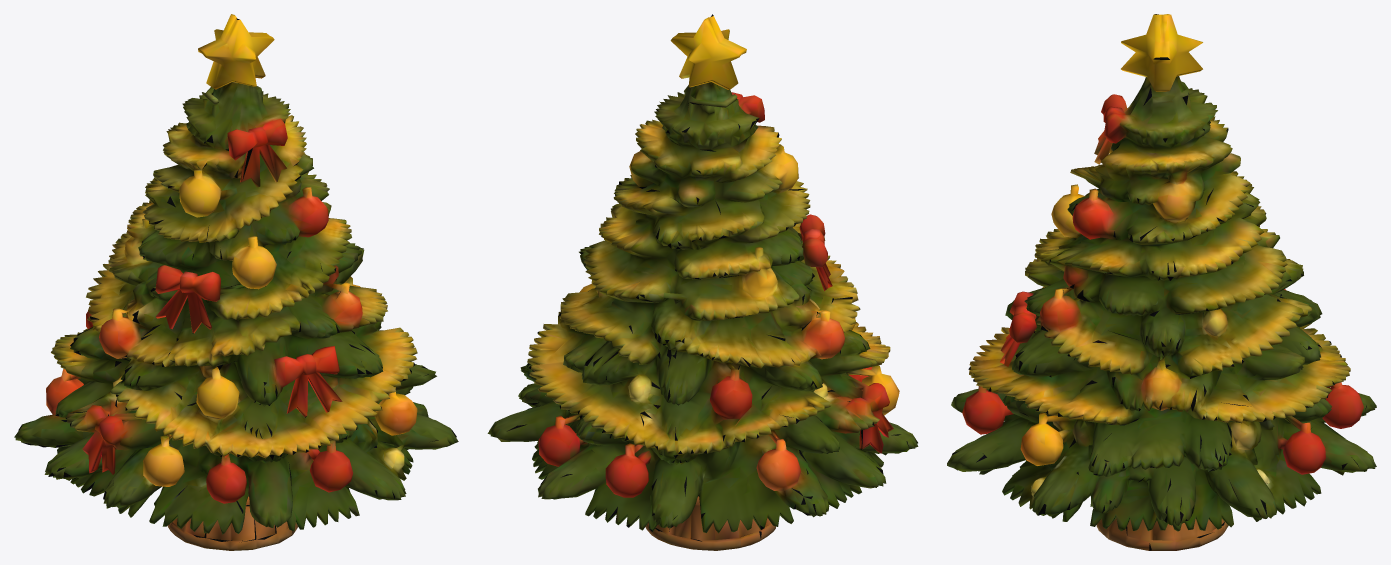
The model's file is christmas_tree.glb.
The picture shows the model from 3 angles, left to right: view 1: azimuth 30°, elevation 25°; view 2: azimuth 150°, elevation 25°; view 3: azimuth 270°, elevation 25°; orthographic projection.
Visible parts, largest first — view 1: christmas_tree; view 2: christmas_tree; view 3: christmas_tree.
Part boxes in pixels (x1=…): christmas_tree: x1=14, y1=14, x2=458, y2=550; christmas_tree: x1=487, y1=14, x2=918, y2=550; christmas_tree: x1=947, y1=14, x2=1376, y2=550.
Bounding box in the file's own units: 1.48 × 1.95 × 1.49.
1 material, 1 textured.
